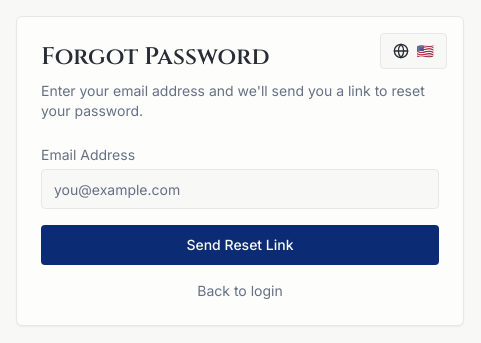
it: ForgotPassword page › calls API with email and shows success message
Type "test@example.com" into the field labelled "Email Address" at (240, 189), box [41,169,439,209]
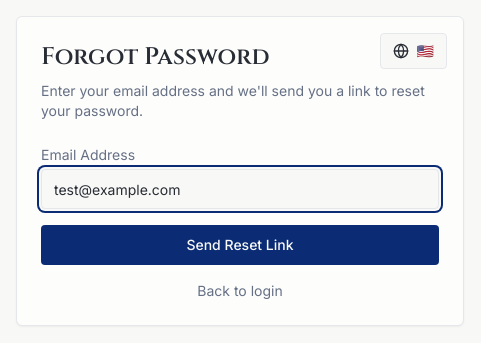
Click the button "Send Reset Link" at (240, 245), box [41,225,439,265]
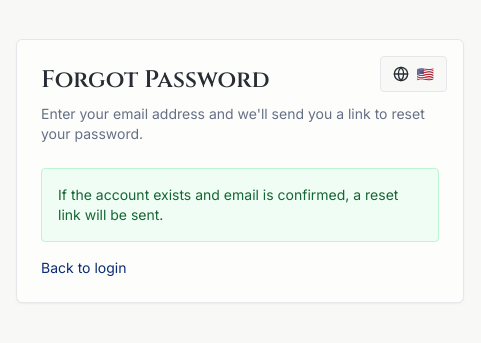
Check: the link "Back to login" is shown, box [41,258,126,278]
Check: the text "If the account exists and email is confirmed, a reset link will be sent." is shown, box [58,185,422,225]
